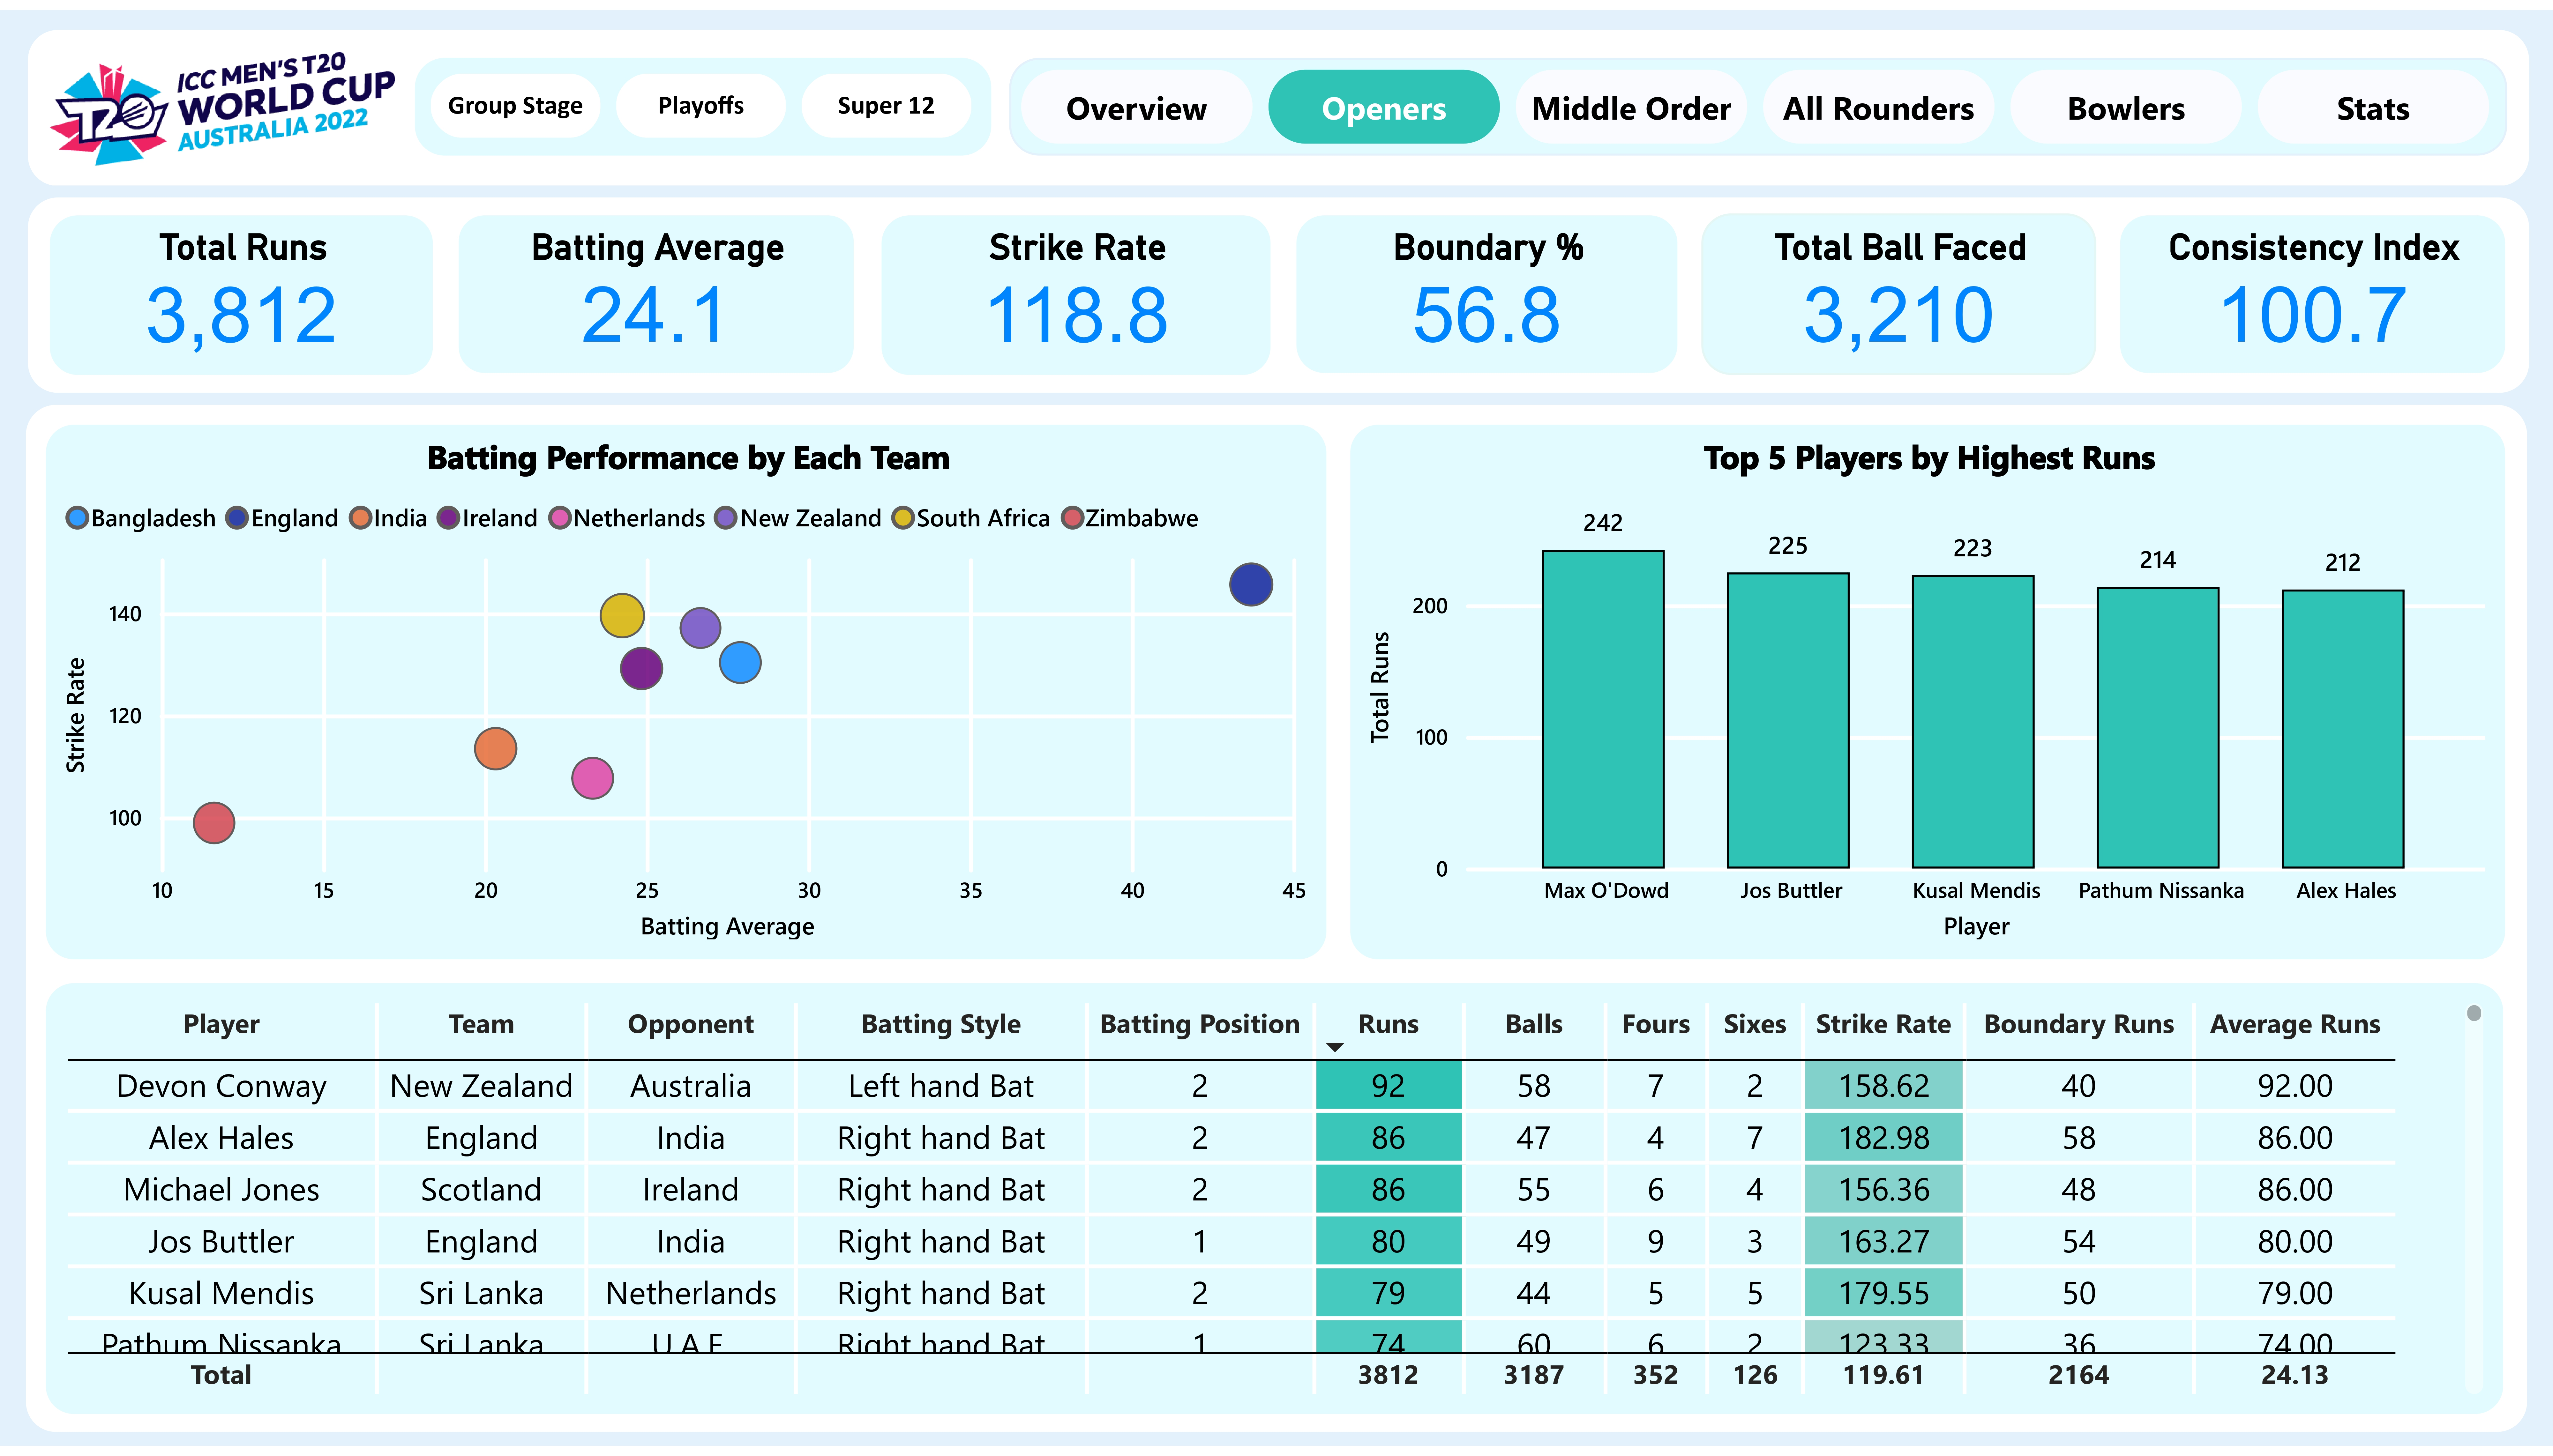

The dashboard page shown, as its layout file describes it:
{"tool":"powerbi","page":{"name":"Openers","canvas":[1280,720],"ordinal":1},"visuals":[{"type":"shape","box":[12.5,198,1254,515],"z":0},{"type":"shape","box":[13.8,93.8,1254,98],"z":1000},{"type":"clusteredColumnChart","title":"Top 5 Players by Highest Runs","fields":{"Category":["players.name"],"Y":["Measure.Total Runs"]},"box":[675.6,207,581,270],"z":5000},{"type":"scatterChart","title":"Batting Performance by Each Team","fields":{"X":["Measure.Batting Average"],"Y":["Measure.Strike Rate"],"Series":["players.team"],"Size":["Measure.Boundary %"]},"box":[22.3,207,644.5,270],"z":7000},{"type":"tableEx","fields":{"Values":["players.name","bating_summary.team","bating_summary.Opponent","players.battingStyle","bating_summary.battingPos","Measure.Total Runs","Measure.total ball faced","Sum(bating_summary.fours)","Sum(bating_summary.sixes)","Measure.Strike Rate","Sum(bating_summary.Boundary runs)","Measure.Average Runs"]},"box":[22.3,487,1234.4,218.2],"z":9000},{"type":"advanceCardE03760C5AB684758B56AA29F9E6C257B","title":"Batting Average","fields":{"mainMeasure":["Measure.Batting Average"]},"box":[229,102.4,200,81.3],"z":10000},{"type":"advanceCardE03760C5AB684758B56AA29F9E6C257B","title":"Total Runs","fields":{"mainMeasure":["Measure.Total Runs"]},"box":[24,102,194,81.6],"z":11000},{"type":"advanceCardE03760C5AB684758B56AA29F9E6C257B","title":"Consistency Index","fields":{"mainMeasure":["Measure.Consistency Index"]},"box":[1061.8,102.4,194.8,81.3],"z":12000},{"type":"advanceCardE03760C5AB684758B56AA29F9E6C257B","title":"Total Ball Faced","fields":{"mainMeasure":["Measure.total ball faced"]},"box":[852.6,102.4,198.1,81.3],"z":13000},{"type":"advanceCardE03760C5AB684758B56AA29F9E6C257B","title":"Boundary %","fields":{"mainMeasure":["Measure.Boundary %"]},"box":[649,102.4,193,81.3],"z":14000},{"type":"advanceCardE03760C5AB684758B56AA29F9E6C257B","title":"Strike Rate","fields":{"mainMeasure":["Measure.Strike Rate"]},"box":[441,102,197,81.6],"z":15000},{"type":"shape","box":[13.6,10.2,1254,78.2],"z":16000},{"type":"image","box":[25.2,12.6,173.4,73.6],"z":17000},{"type":"pageNavigator","box":[506.1,24,750.9,49],"z":18000},{"type":"advancedSlicerVisual","fields":{"Values":["match_summary.Stage"]},"box":[208.1,24.5,289.4,49],"z":19000}]}

Visuals, with their boxes in screenshot pixels (x1, y1, x2, y2), scaled from the page's 1280x720 canvas onto the 2553x1456 screenshot:
shape: locate(25, 400, 2526, 1442)
shape: locate(27, 190, 2529, 388)
"Top 5 Players by Highest Runs" clusteredColumnChart: locate(1347, 419, 2506, 965)
"Batting Performance by Each Team" scatterChart: locate(44, 419, 1330, 965)
tableEx - players.name x bating_summary.team: locate(44, 985, 2506, 1426)
"Batting Average" advanceCardE03760C5AB684758B56AA29F9E6C257B: locate(457, 207, 856, 371)
"Total Runs" advanceCardE03760C5AB684758B56AA29F9E6C257B: locate(48, 206, 435, 371)
"Consistency Index" advanceCardE03760C5AB684758B56AA29F9E6C257B: locate(2118, 207, 2506, 371)
"Total Ball Faced" advanceCardE03760C5AB684758B56AA29F9E6C257B: locate(1701, 207, 2096, 371)
"Boundary %" advanceCardE03760C5AB684758B56AA29F9E6C257B: locate(1294, 207, 1679, 371)
"Strike Rate" advanceCardE03760C5AB684758B56AA29F9E6C257B: locate(880, 206, 1273, 371)
shape: locate(27, 21, 2528, 179)
image: locate(50, 26, 396, 174)
pageNavigator: locate(1009, 48, 2507, 148)
advancedSlicerVisual - match_summary.Stage: locate(415, 49, 992, 149)
